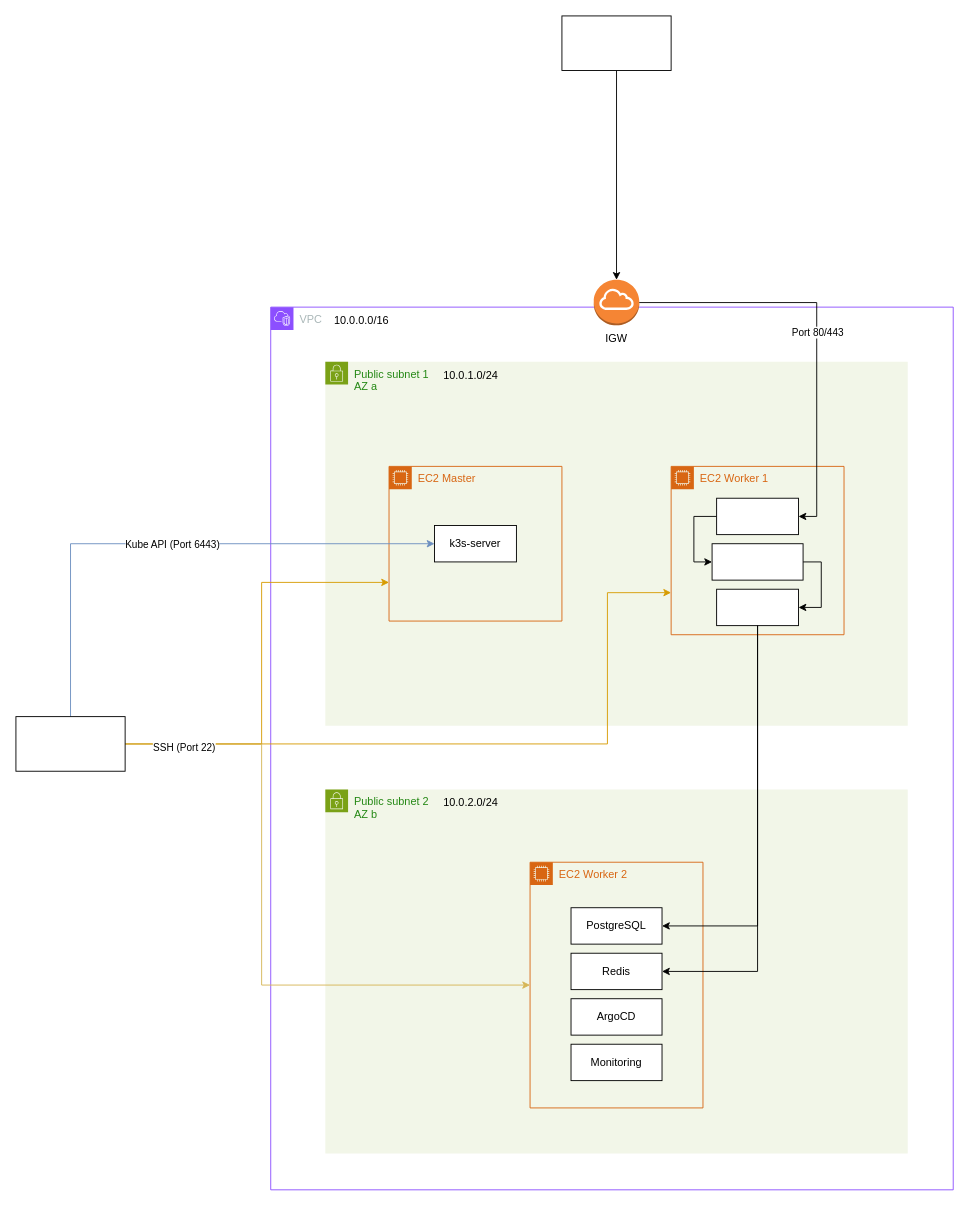
Some shapes in this 969 by 1206 pixel diagram are drawn without their labels. Here are the shapes that lost their labels. From the top down, the centre of each, then its label:
the point at 616,43: Internet / Client
the point at 757,516: Traefik Ingress Controller
the point at 757,561: Pod 1 Frontend
the point at 757,607: Pod 2 Backend (API)
the point at 70,743: Admin Workstation
